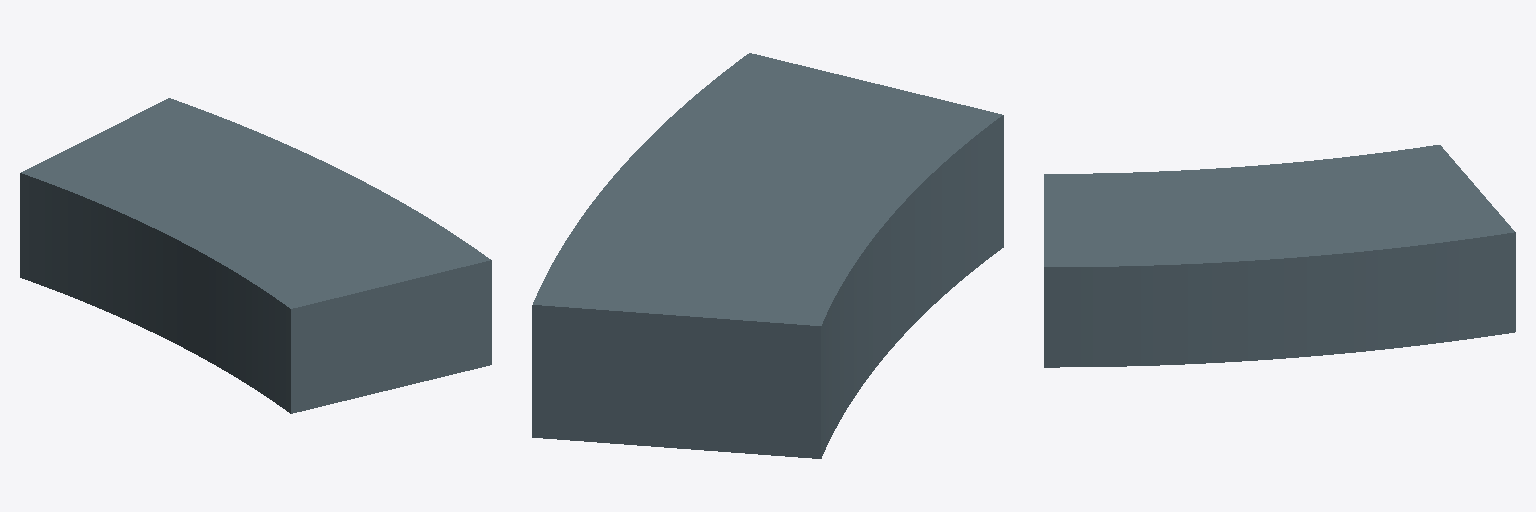
robot.urdf — box:
<?xml version="1.0"?>
<robot name="box">
<link name="world"/>
  <joint name="fixed" type="fixed">
    <parent link="world"/>
    <child link="area"/>
  </joint>
  <link name="area">
    <inertial>
     <origin
        xyz="0 0 0"
        rpy="0 0 0" />
      <mass value="1"/>
      <!-- Inertia values were calculated to be consistent with the mass and
           geometry size, assuming a uniform density. -->
      <inertia ixx="0.0108" ixy="0" ixz="0" iyy="0.0083" iyz="0" izz="0.0042"/>
    </inertial>
    <visual>
      <origin
        xyz="0 0 0"
        rpy="0 0 0" />
      <geometry>
        <mesh
          filename="./meshes/area.STL" />
      </geometry>
      <material
        name="">
        <color
          rgba="0.4196078431372549 0.48627450980392156 0.5215686274509804 1.0" />
      </material>
    </visual>
    <collision name="box">
      <geometry>
        <box size=".01 .01 .01"/>
      </geometry>
    </collision>
  </link>
</robot>

--- Render facts (derived) ---
The picture shows the robot from 3 angles, left to right: view 1: azimuth 30°, elevation 25°; view 2: azimuth 150°, elevation 25°; view 3: azimuth 270°, elevation 25°; orthographic projection.
Robot: box — 2 links, 1 joints (1 fixed); root link world; default pose: every joint at zero.
Visible links, largest first — view 1: area; view 2: area; view 3: area.
Boxes of the visible links, left/top/right/bottom form: area: left=20, top=98, right=491, bottom=413; area: left=532, top=53, right=1003, bottom=458; area: left=1044, top=145, right=1515, bottom=367.
Bounding box of the posed robot: 0.2631 × 0.4261 × 0.1 m (x, y, z).
1 mesh visuals loaded from 1 distinct referenced files (1 binary STL).